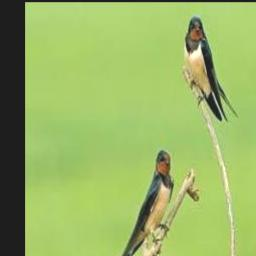Swallow: (112, 149, 174, 256), (183, 16, 237, 122)
